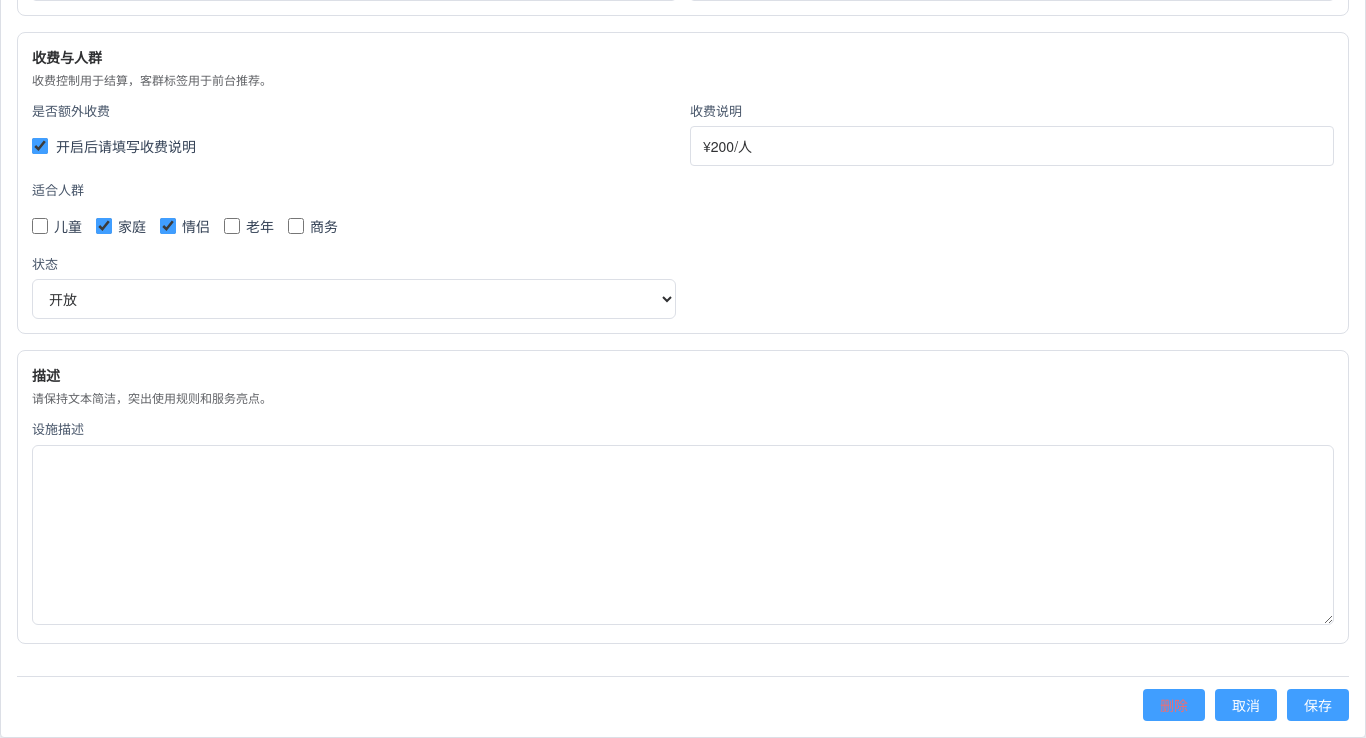
Scenario: Facilities edit page › deletes when confirmed
The width and height of the screenshot is (1366, 738).
(page scrolled)
Click the button "删除" at coordinates (1174, 705), box [1143,689,1205,721]
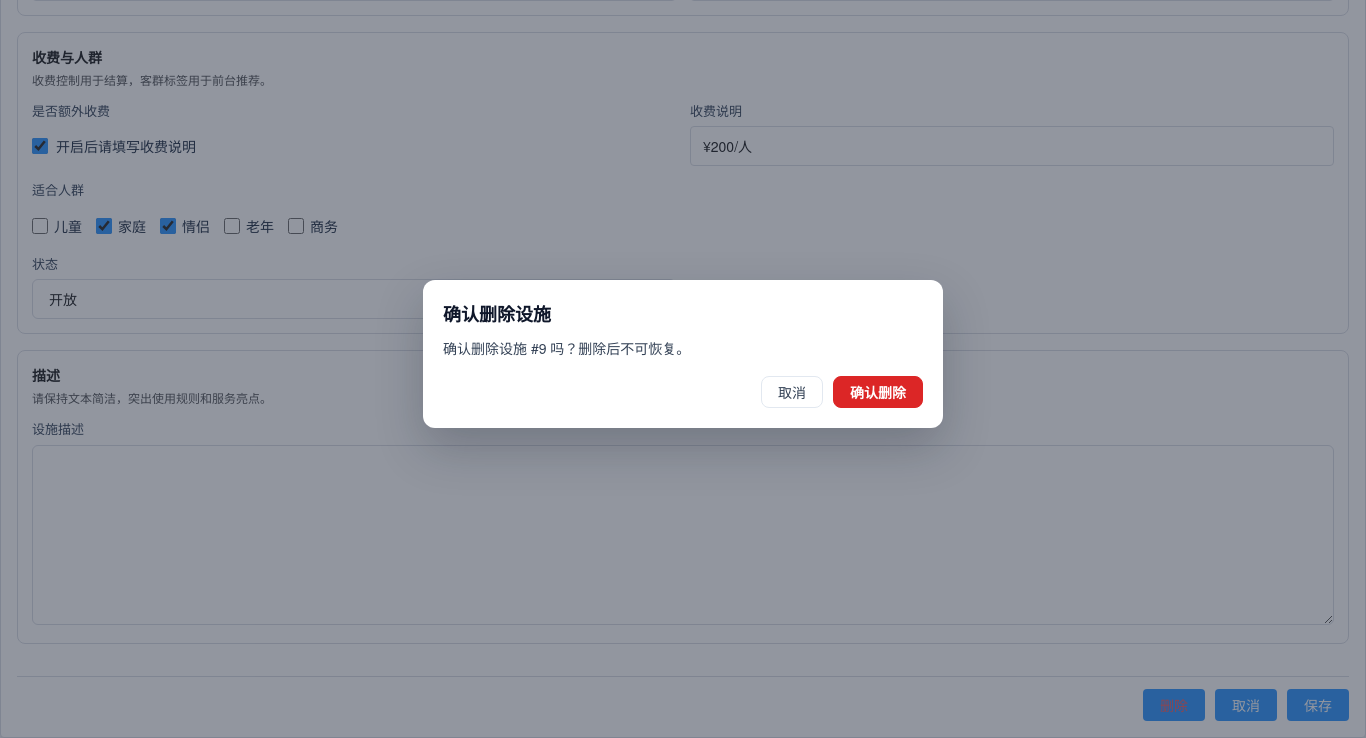
Expected: the button "确认删除" is shown
Click the button "确认删除" at coordinates (878, 392), box [833,376,923,408]
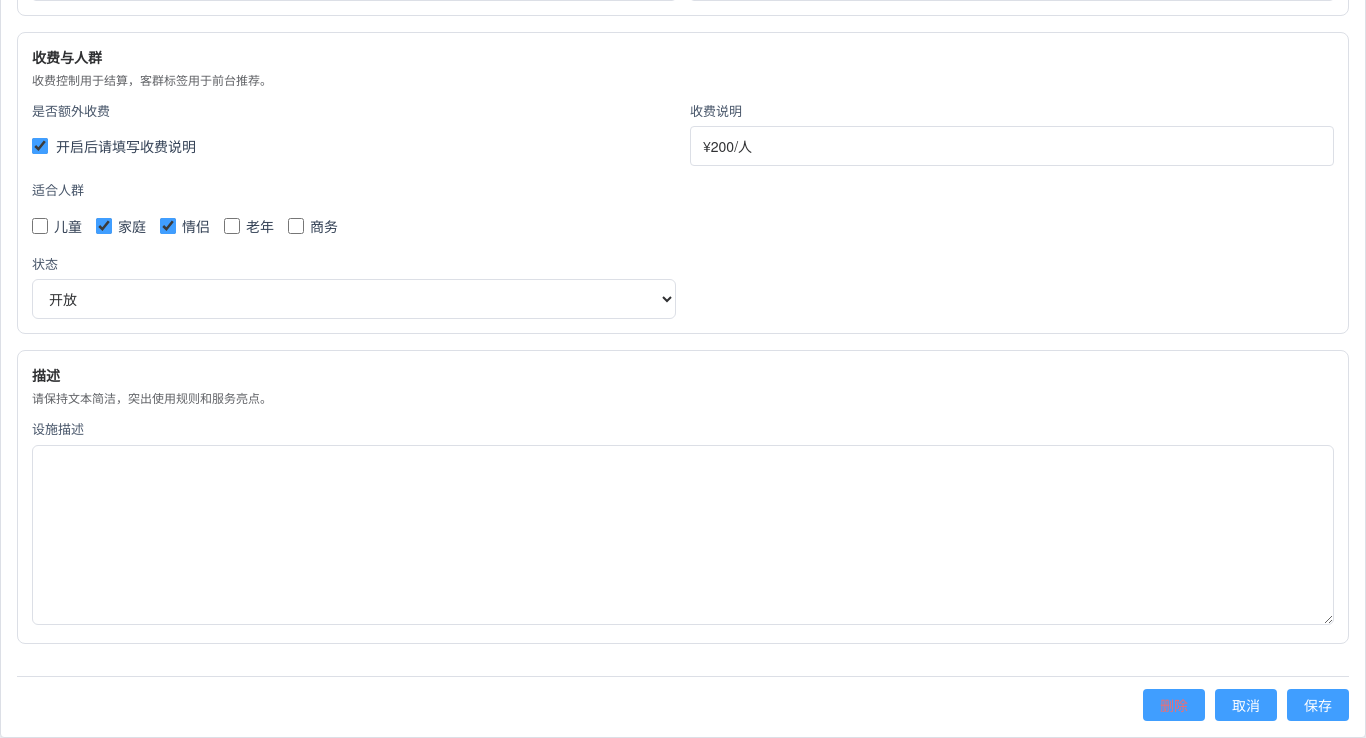
Expected: the text "确认删除设施" is gone
